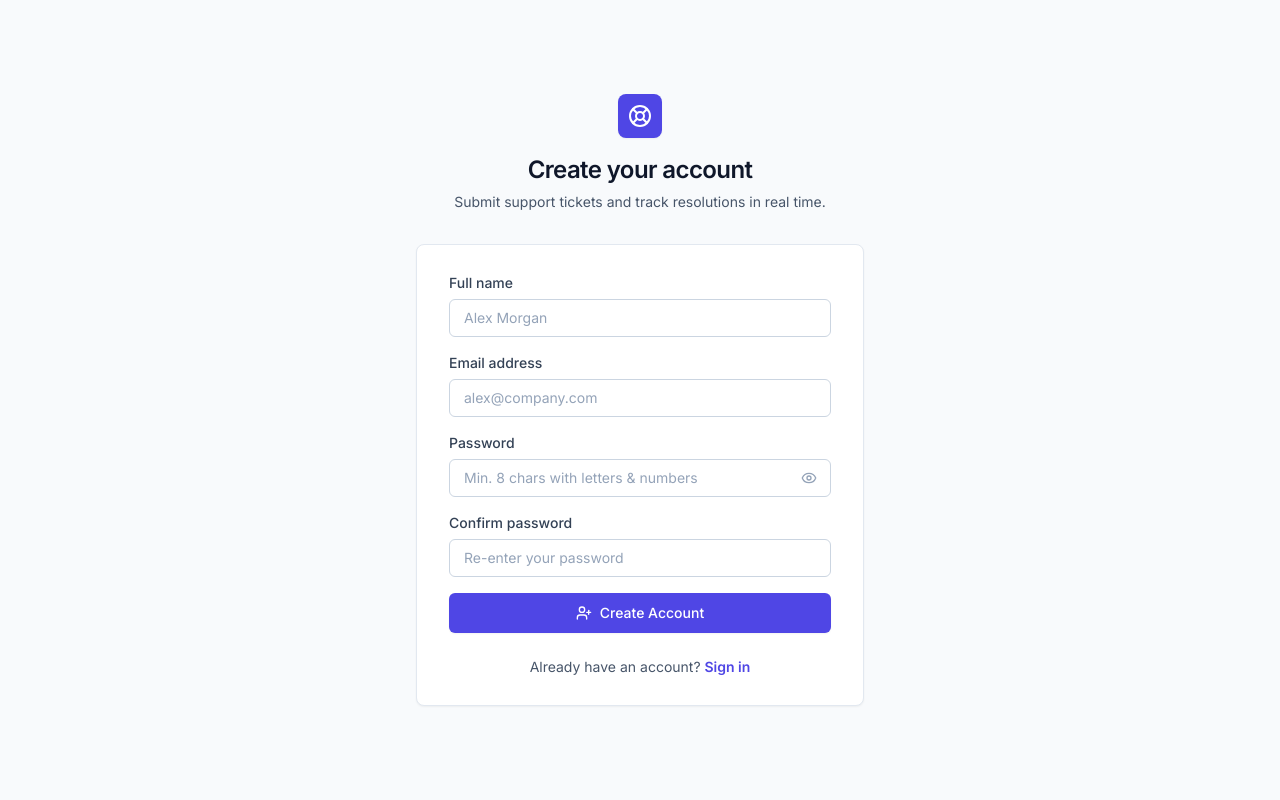
Frontend Authentication, Role Navigation & Workflows › validates registration and redirects user to dashboard
Expected: the heading "Create your account" is shown, [528, 155, 752, 184]
Step 1. Type "Bob Builder" into the field labelled "Full name" → (640, 318), box [449, 299, 831, 337]
Step 2. Type "bob@example.com" into the field labelled "Email address" → (640, 398), box [449, 379, 831, 417]
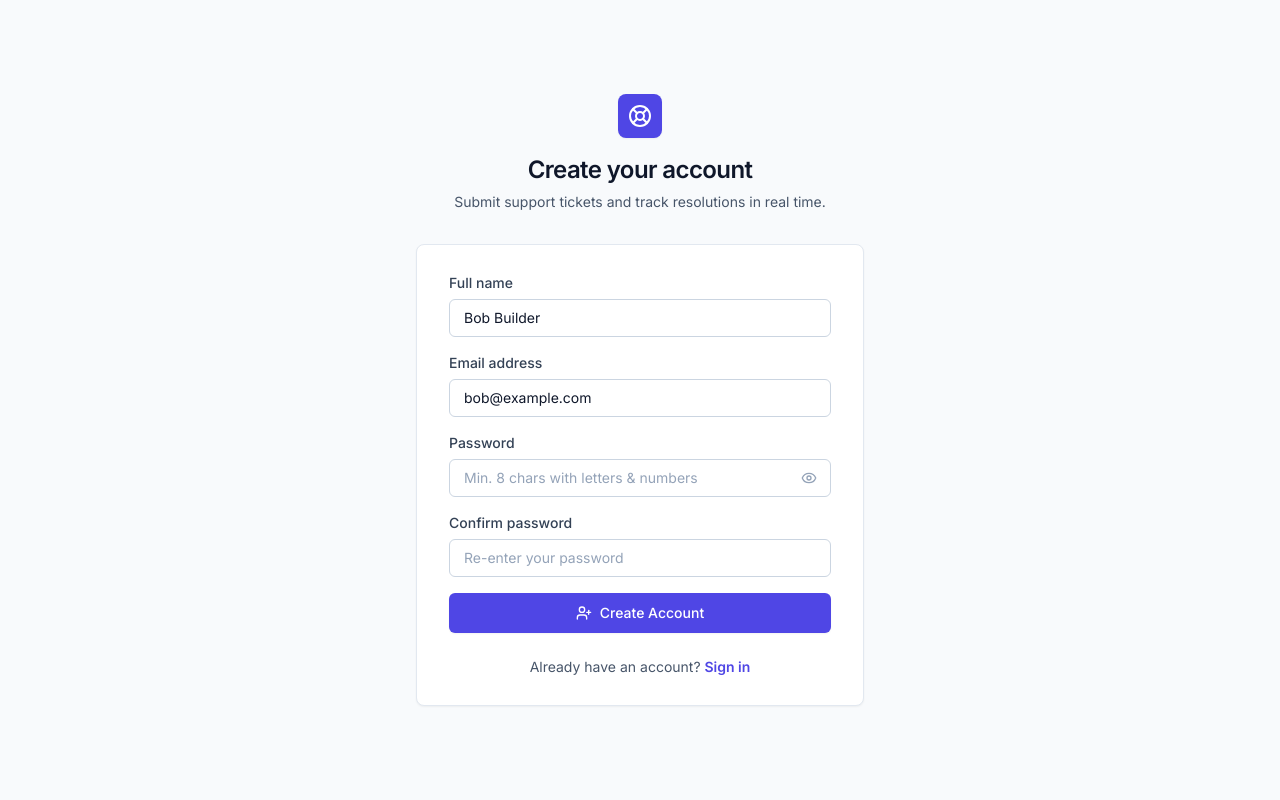
Step 3. Type "Password123" into the password field labelled "Password" → (640, 478), box [449, 459, 831, 497]
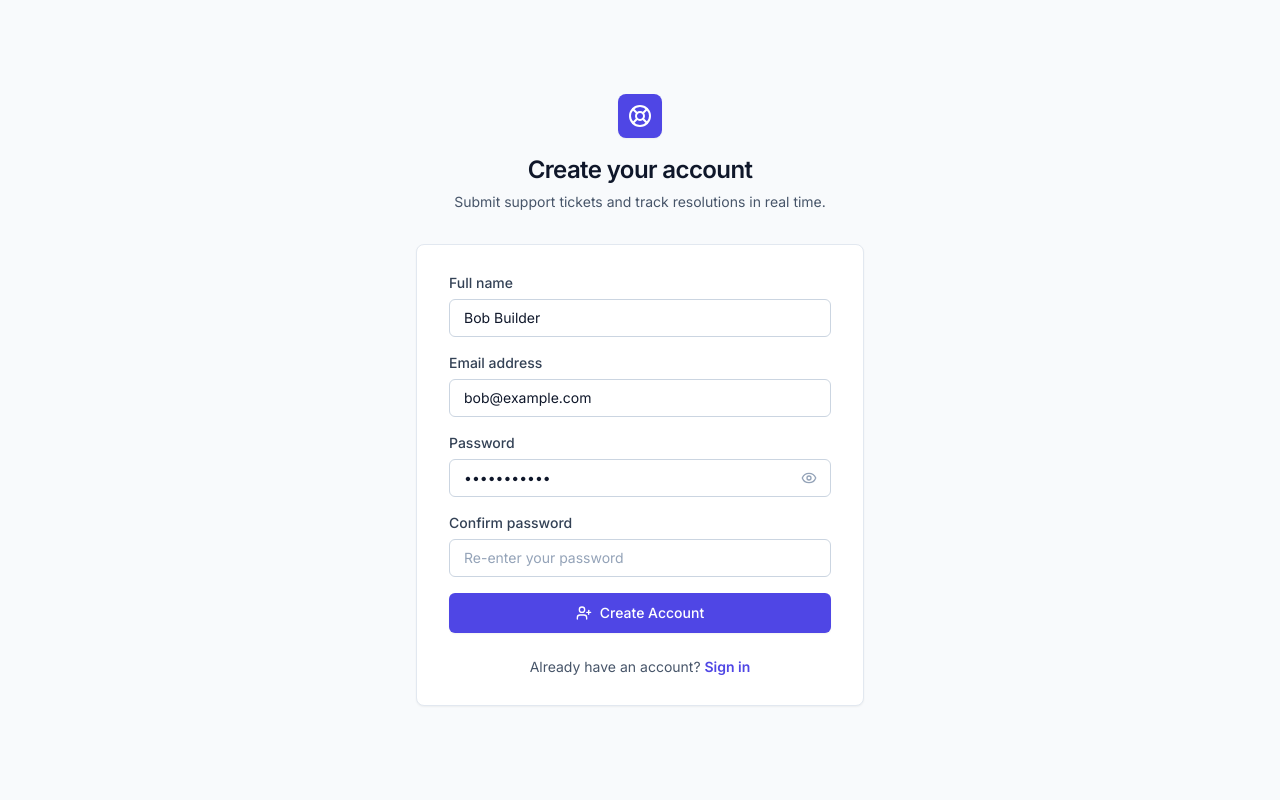
Step 4. Type "Different123" into the password field labelled "Confirm password" → (640, 558), box [449, 539, 831, 577]
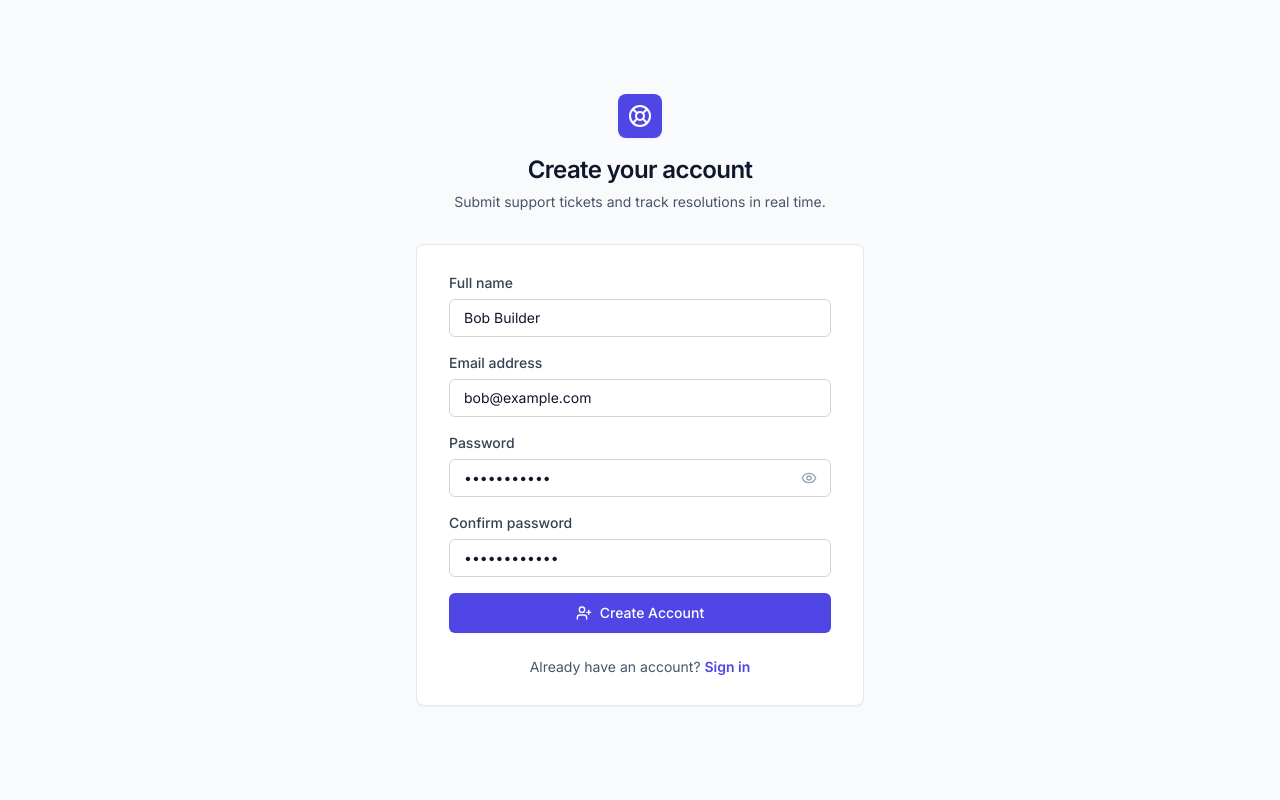
Step 5. Click the button "Create Account" → (640, 613), box [449, 593, 831, 633]
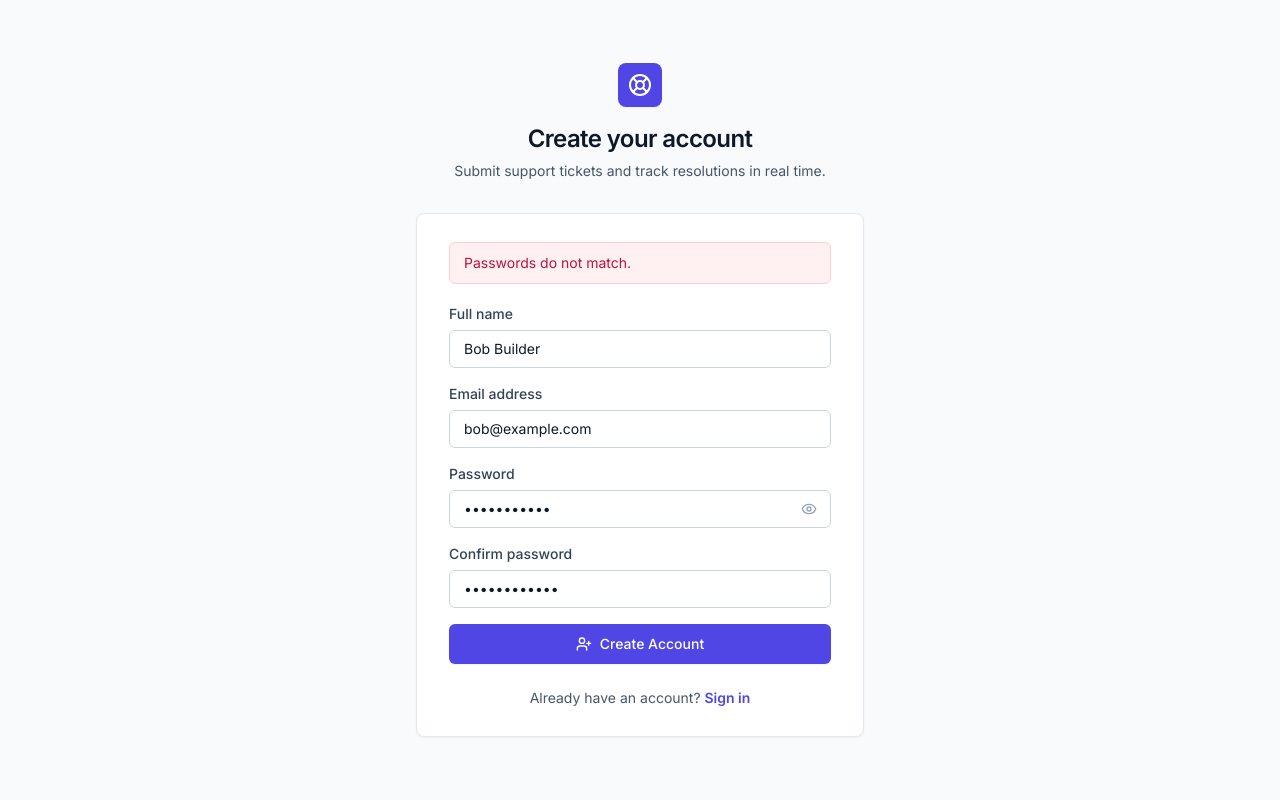
Now the message shows "Passwords do not match", box [464, 254, 631, 271]
Step 6. Type "Password123" into the password field labelled "Confirm password" → (640, 589), box [449, 570, 831, 608]
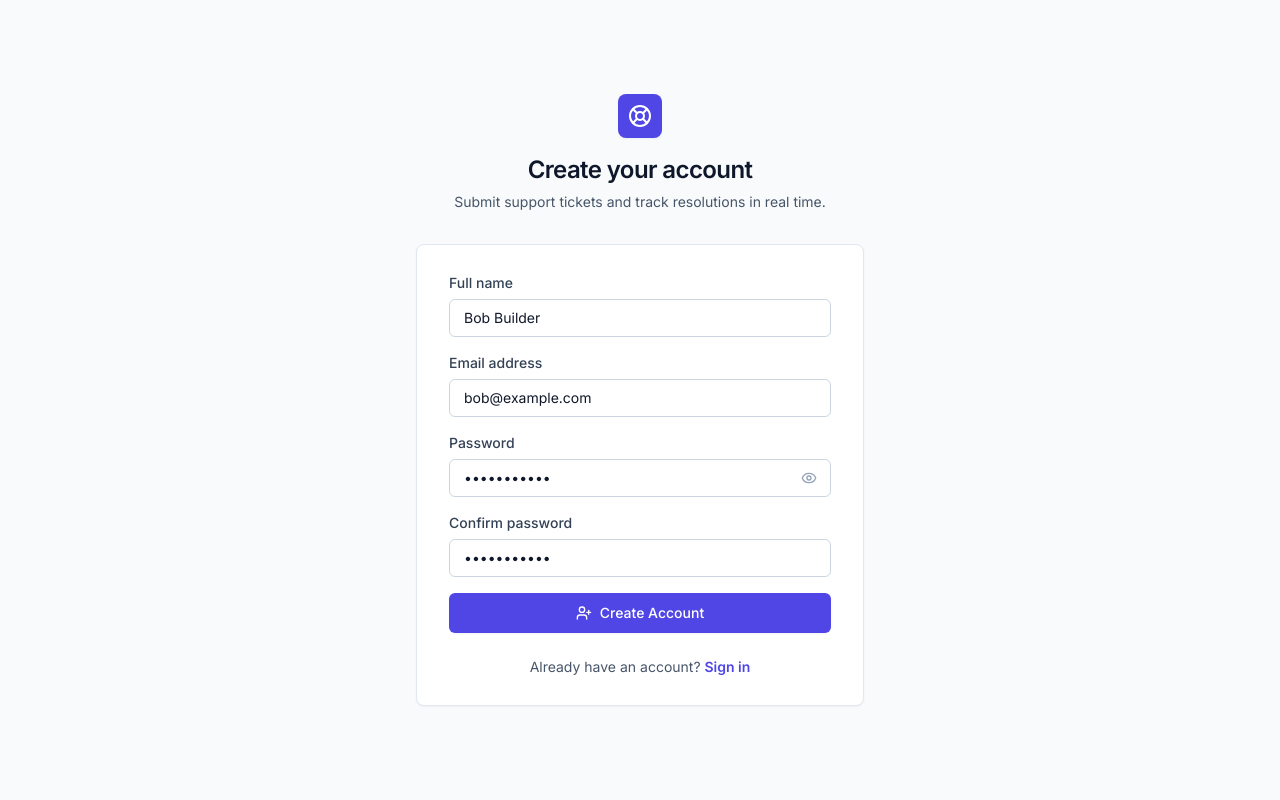
Step 7. Click the button "Create Account" → (640, 613), box [449, 593, 831, 633]
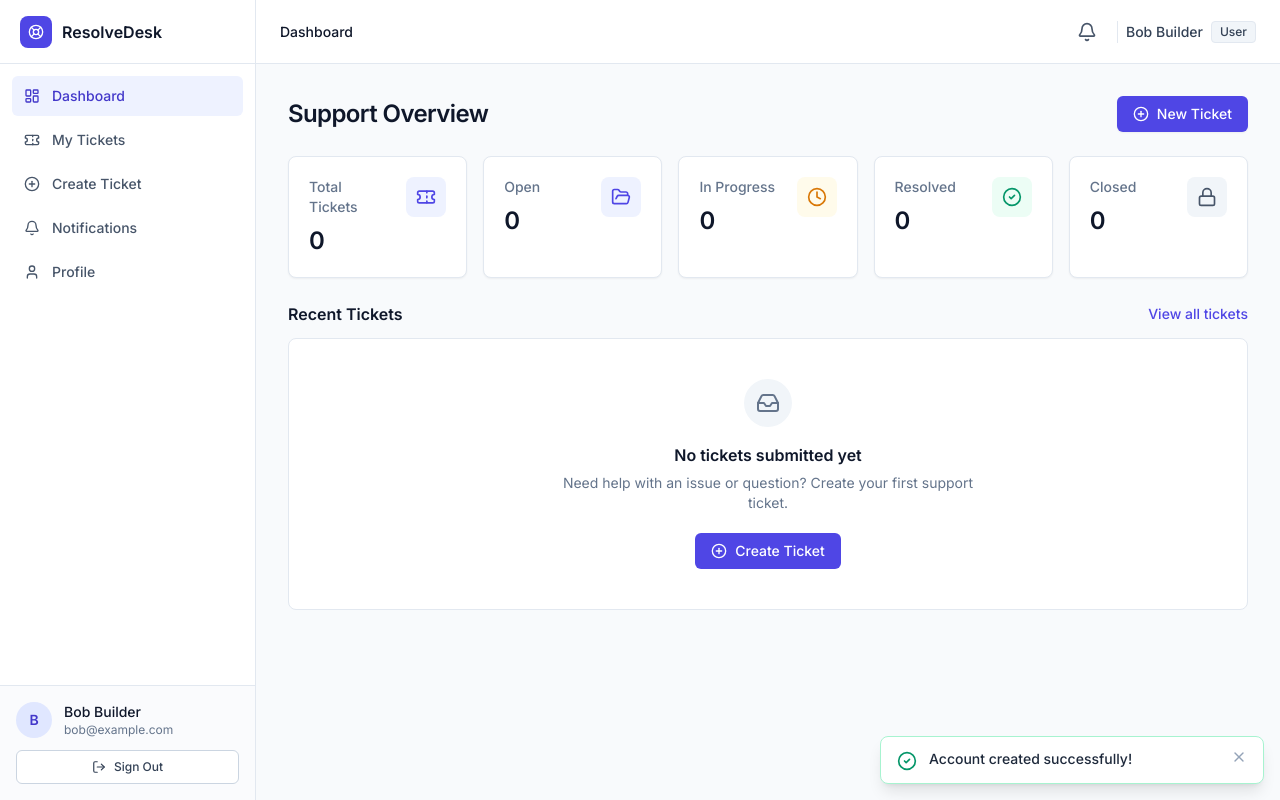
Now the heading "Support Overview" is shown, box [288, 98, 488, 130]
